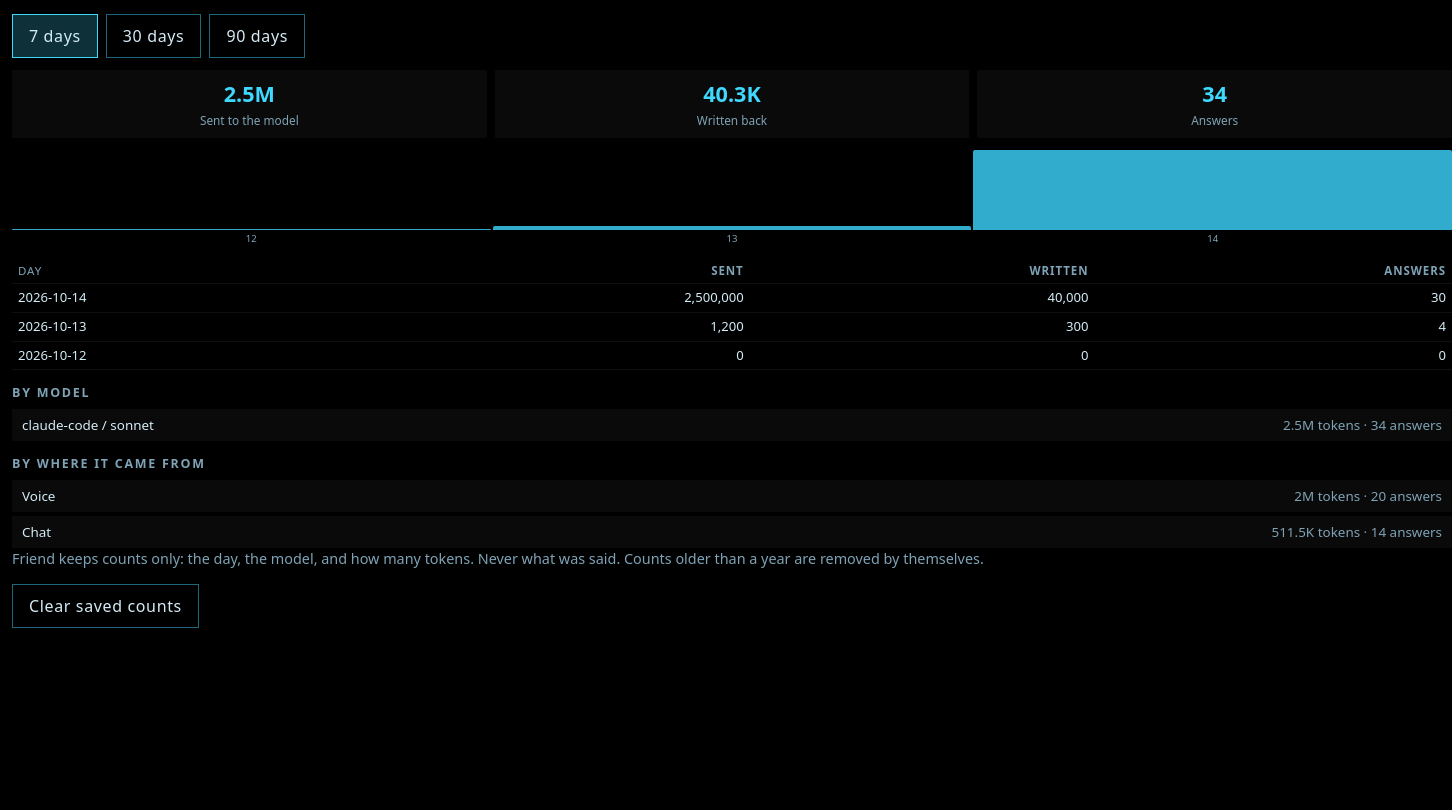
the usage page › can back out of clearing
Click the button "Clear saved counts" at (105, 606), box 12,584 -> 199,628
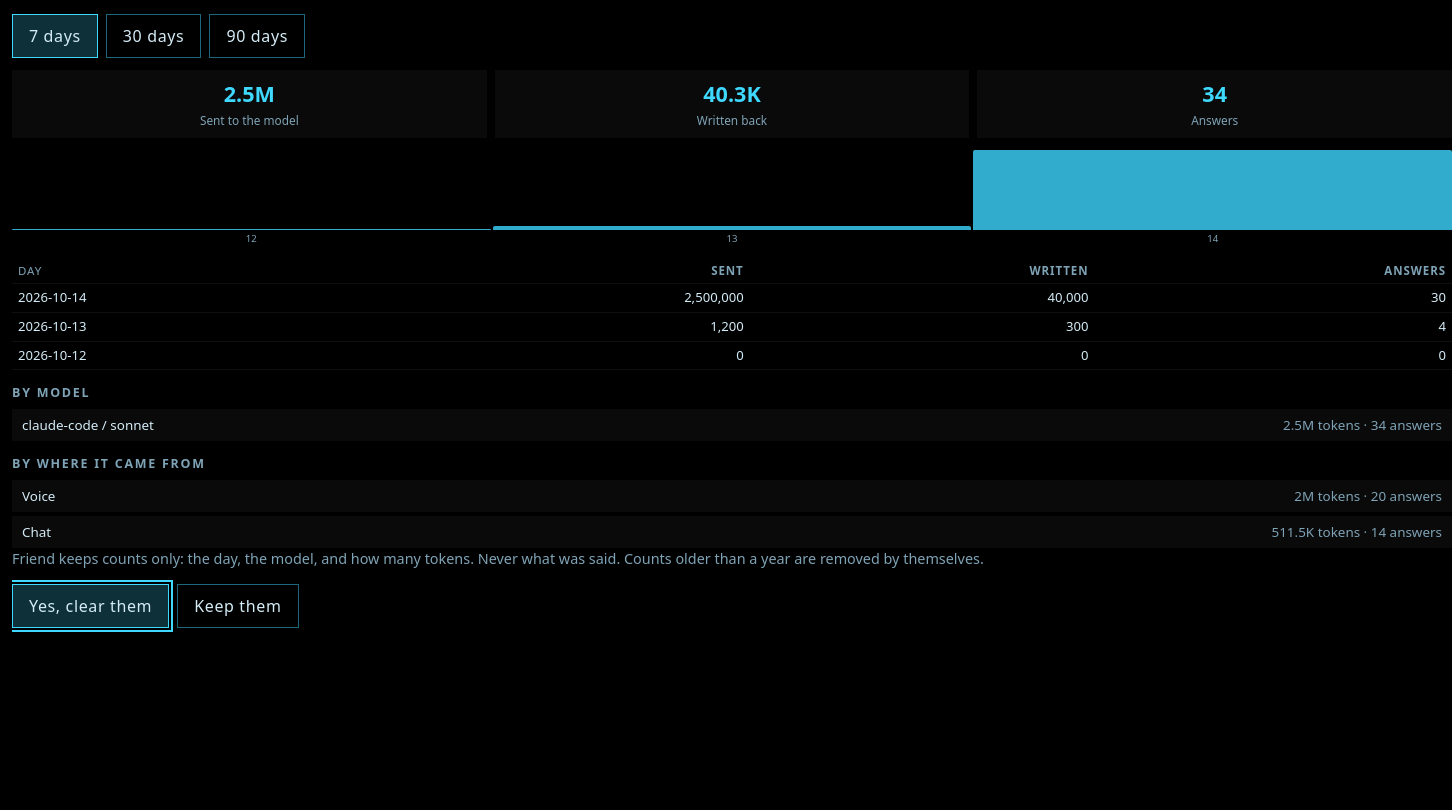
Click the button "Keep them" at (238, 606), box 177,584 -> 299,628
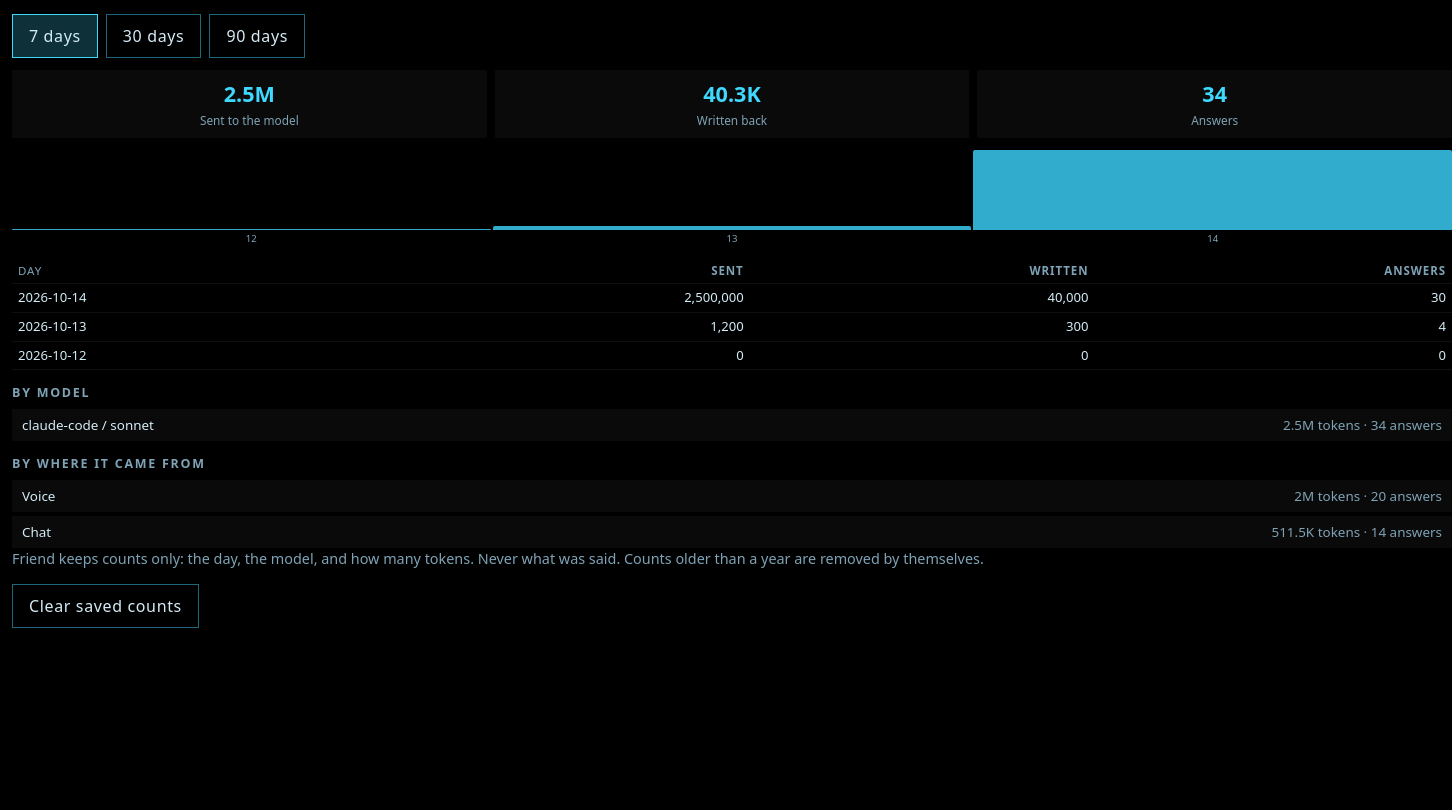
Expected: the button "Clear saved counts" is shown, 12,584 -> 199,628
